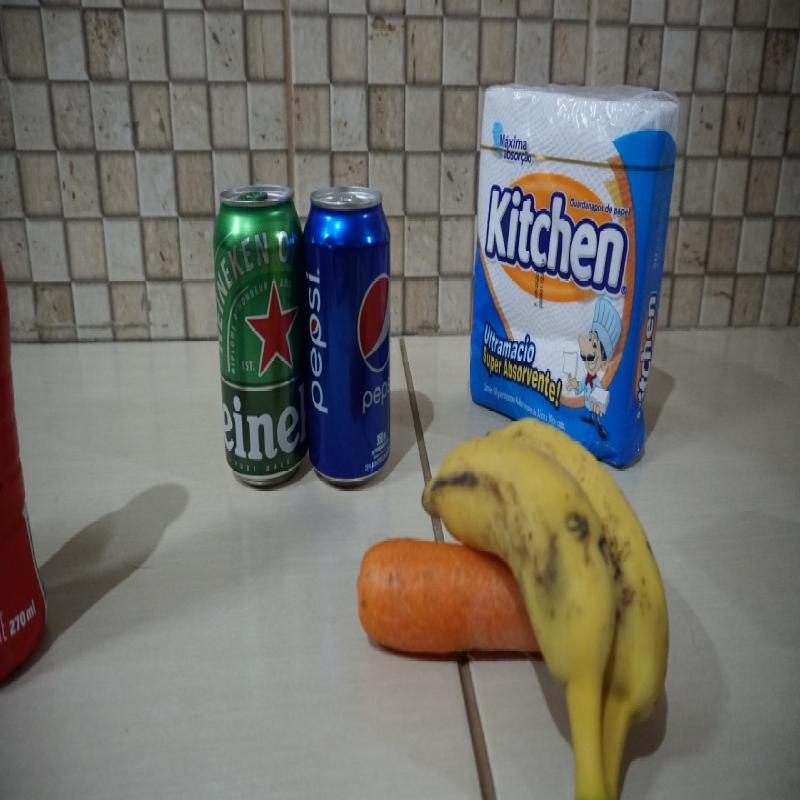Banana: (419, 414, 670, 798), (437, 430, 672, 790)
Beer can: (210, 178, 309, 499), (210, 192, 309, 502)
Carrot: (352, 526, 540, 665), (365, 536, 524, 664)
Chocolate Milk: (0, 248, 55, 692), (0, 199, 47, 682)
Napkin: (469, 77, 684, 479), (471, 88, 672, 437)
Soda can: (303, 181, 396, 491), (300, 198, 396, 489)
